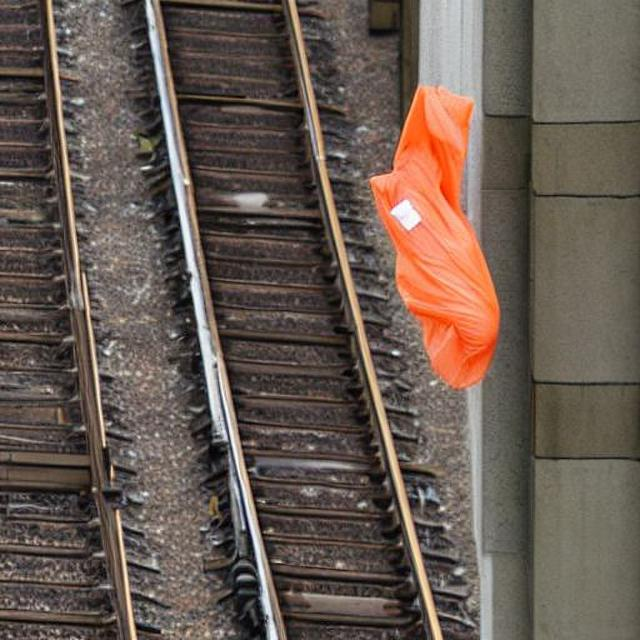floating object: (365, 66, 499, 389)
